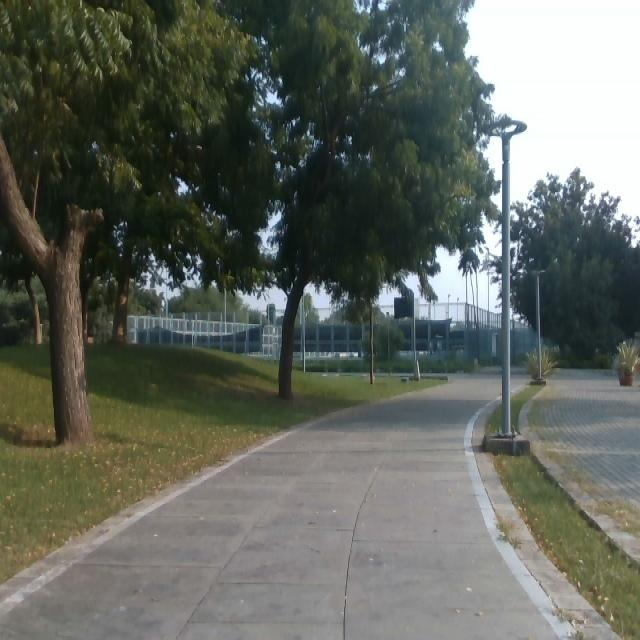lane: (0, 377, 559, 640)
